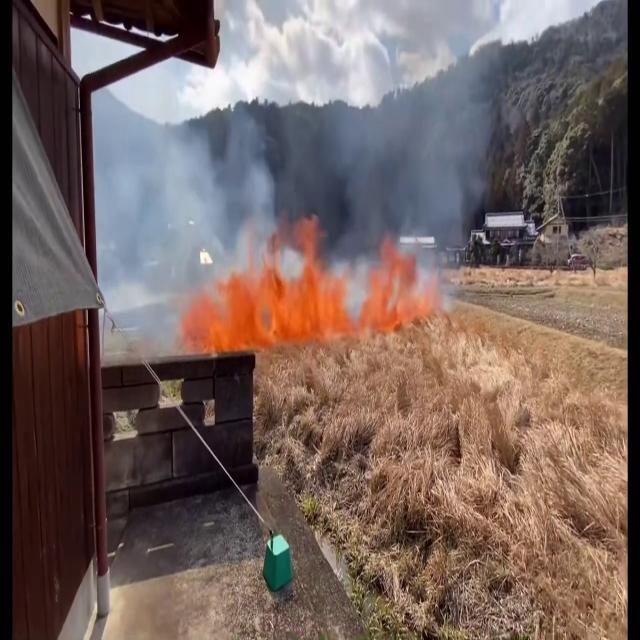Fire: (190, 214, 344, 350), (356, 227, 437, 334)
Smoke: (336, 26, 516, 278), (92, 94, 287, 304)
